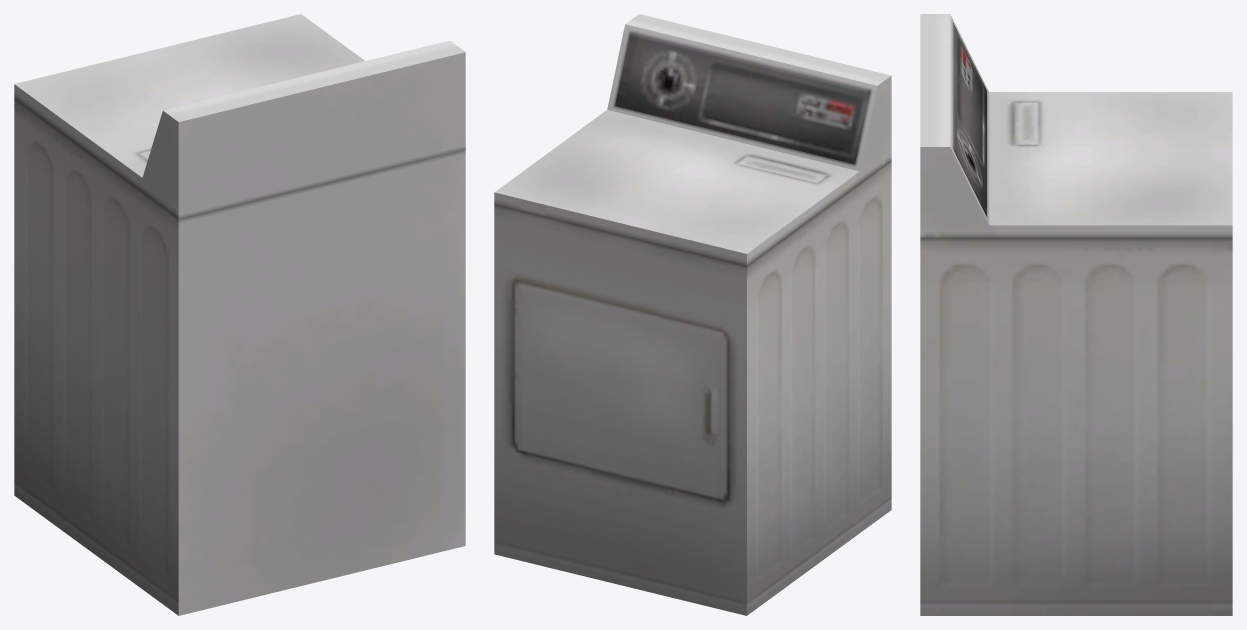
The model's file is dryer.fbx.
The picture shows the model from 3 angles, left to right: view 1: azimuth 30°, elevation 25°; view 2: azimuth 150°, elevation 25°; view 3: azimuth 270°, elevation 25°; orthographic projection. The views are drawn at different scales.
Visible parts, largest first — view 1: mesh_0; view 2: mesh_0; view 3: mesh_0.
Boxes of the visible parts, box(x1,y1,x2,y2) form: mesh_0: box(14, 14, 465, 615); mesh_0: box(494, 14, 891, 615); mesh_0: box(920, 14, 1232, 615).
Bounding box in the file's own units: 72.99 × 120 × 72.5.
Materials: 1 (1 with a texture image).
